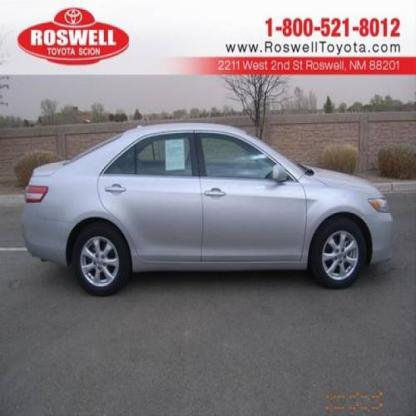Vehicle: (21, 122, 395, 300)
